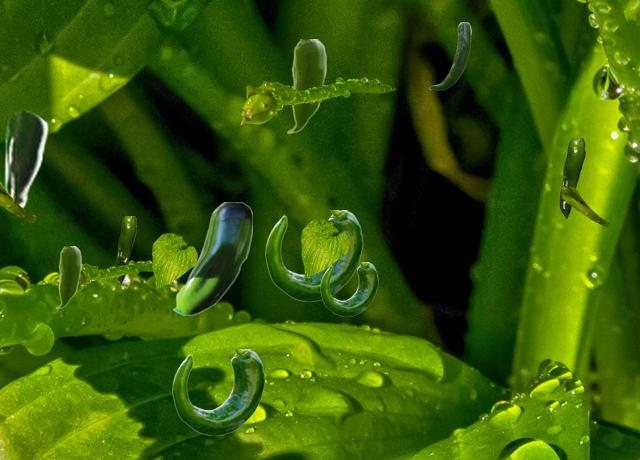green_chili: (172, 202, 251, 315), (265, 210, 362, 300), (172, 349, 264, 434), (0, 109, 48, 212), (286, 39, 325, 133), (320, 262, 377, 315), (429, 22, 470, 89), (559, 138, 584, 218), (55, 246, 80, 308), (115, 216, 135, 283)
